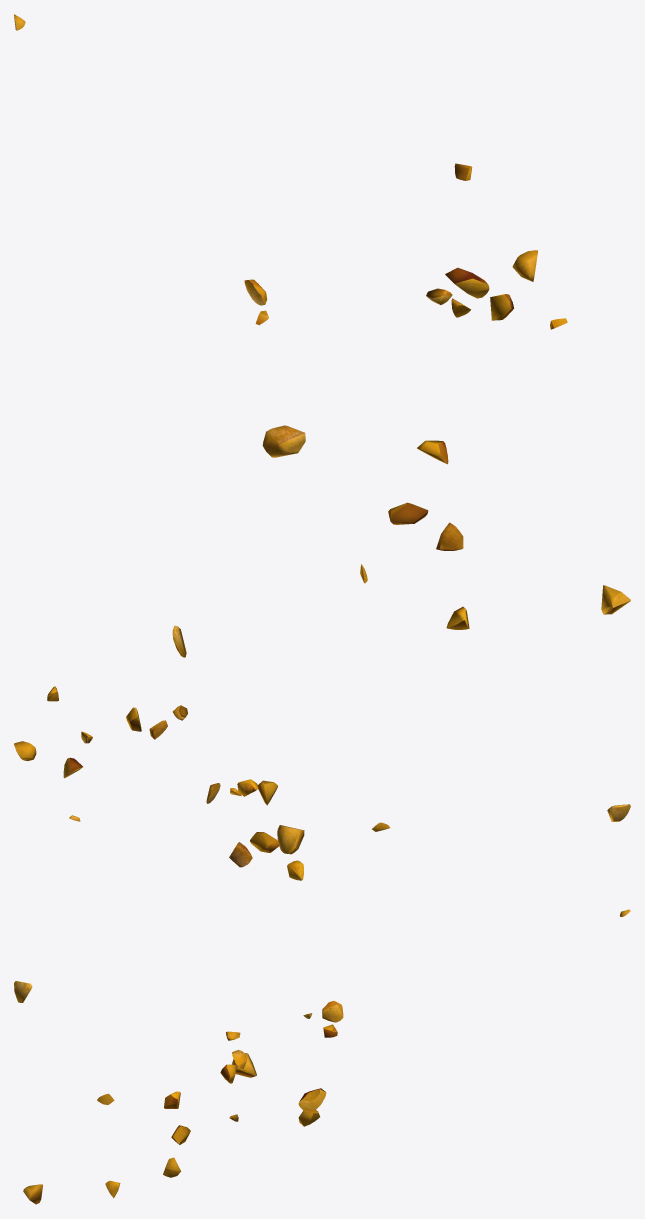
3 renders of one model, top to bottom at view 1: azimuth 30°, elevation 25°; view 2: azimuth 150°, elevation 25°; view 3: azimuth 270°, elevation 25°, orthographic. The views are drawn at different scales.
Visible parts, largest first — view 1: Sphere_cell.082; view 2: Sphere_cell.082; view 3: Sphere_cell.082.
Part boxes in pixels (left/top/right/bottom): Sphere_cell.082: left=14, top=14, right=630, bottom=657; Sphere_cell.082: left=14, top=686, right=630, bottom=880; Sphere_cell.082: left=14, top=909, right=630, bottom=1204.
Size of the model in its own units: 54.25 by 33.12 by 71.57.
1 material, 1 textured.
